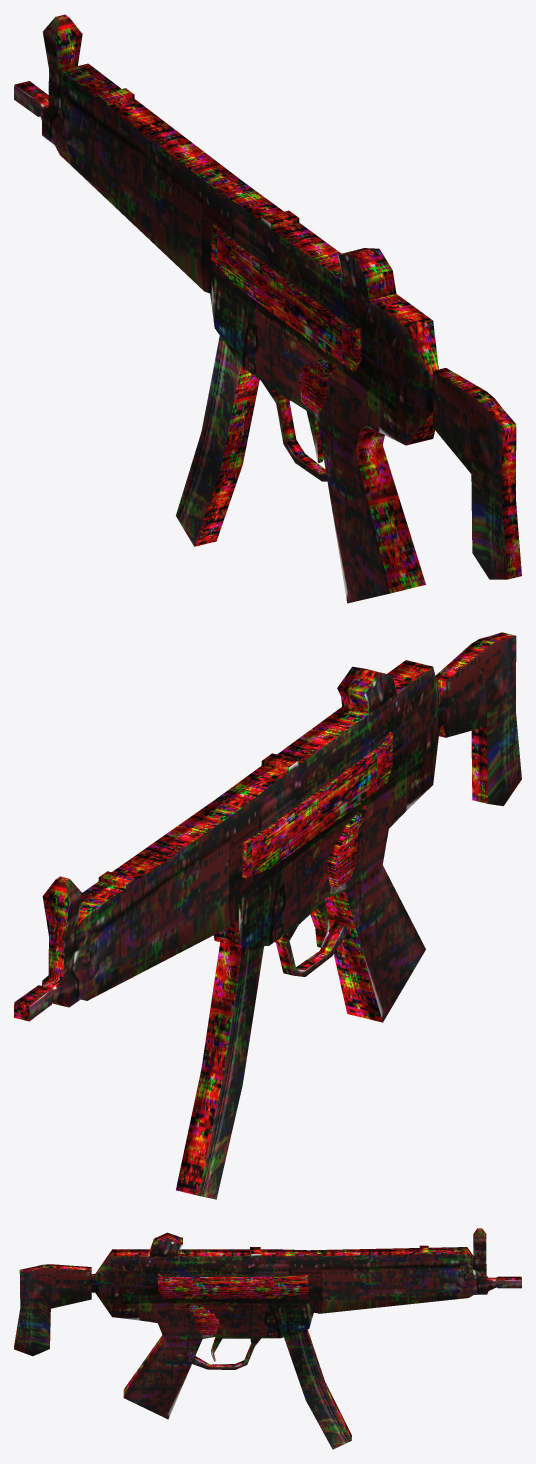
File: gun.fbx
3 views of the same model, one above another, from view 1: azimuth 30°, elevation 25°; view 2: azimuth 150°, elevation 25°; view 3: azimuth 270°, elevation 25° (orthographic). The views are drawn at different scales.
Visible parts, largest first — view 1: Cube; view 2: Cube; view 3: Cube.
Part boxes in pixels (bbox=[...]): Cube: bbox=[14, 14, 521, 603]; Cube: bbox=[14, 632, 521, 1199]; Cube: bbox=[14, 1228, 521, 1449].
Bounding box in the file's own units: 20.83 × 227 × 482.
